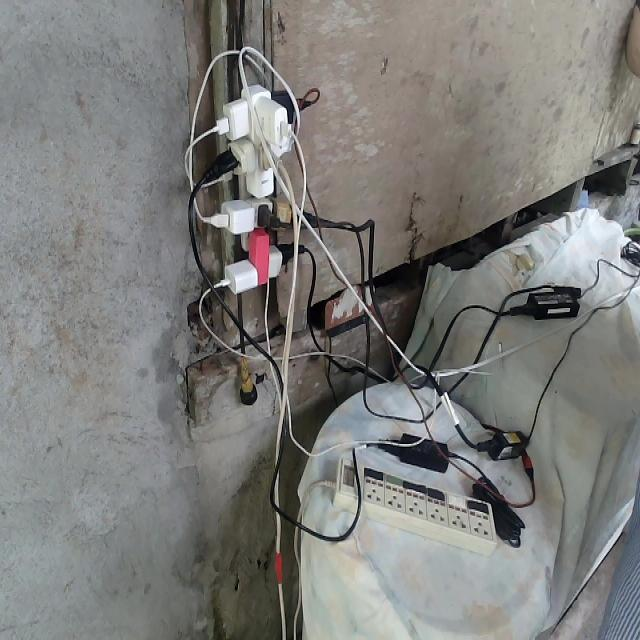-: (201, 77, 313, 295)
